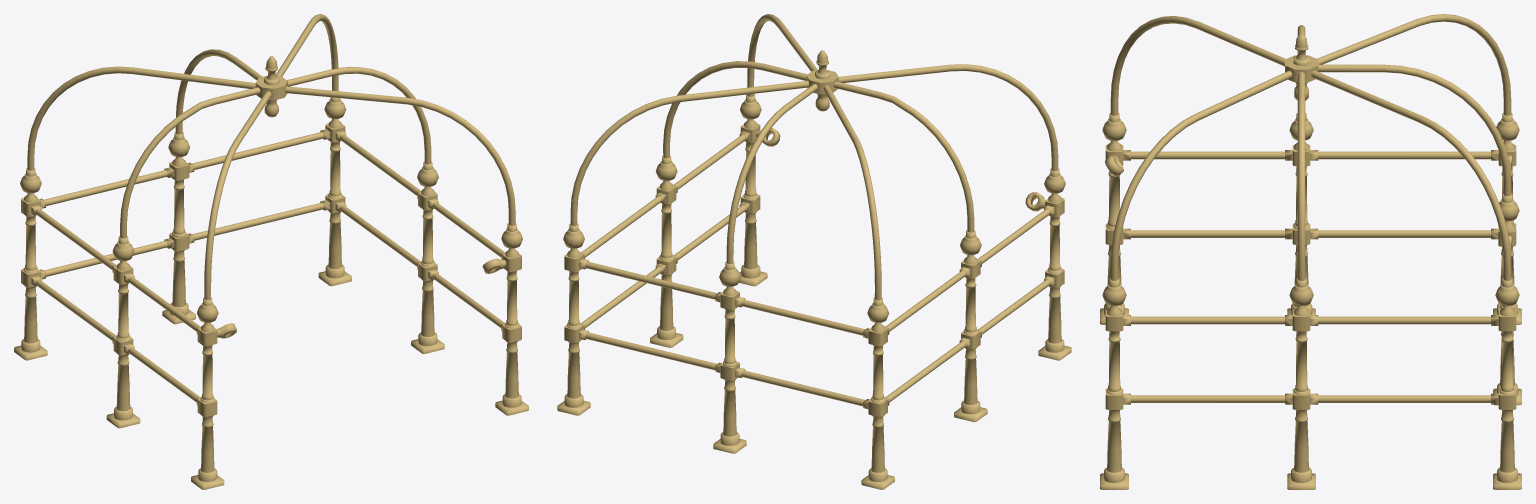
File: HatchCovers_005_Mesh.fbx
3 views of the same model, side by side, from view 1: azimuth 30°, elevation 25°; view 2: azimuth 150°, elevation 25°; view 3: azimuth 270°, elevation 25° (orthographic). The views are drawn at different scales.
Parts seen in each view (by area): view 1: HatchRails.005; view 2: HatchRails.005; view 3: HatchRails.005.
Part boxes in pixels (box(x1,y1,x2,y2)): HatchRails.005: box(14, 14, 528, 489); HatchRails.005: box(557, 14, 1071, 489); HatchRails.005: box(1100, 14, 1521, 489).
Bounding box in the file's own units: 145 × 139 × 146.
